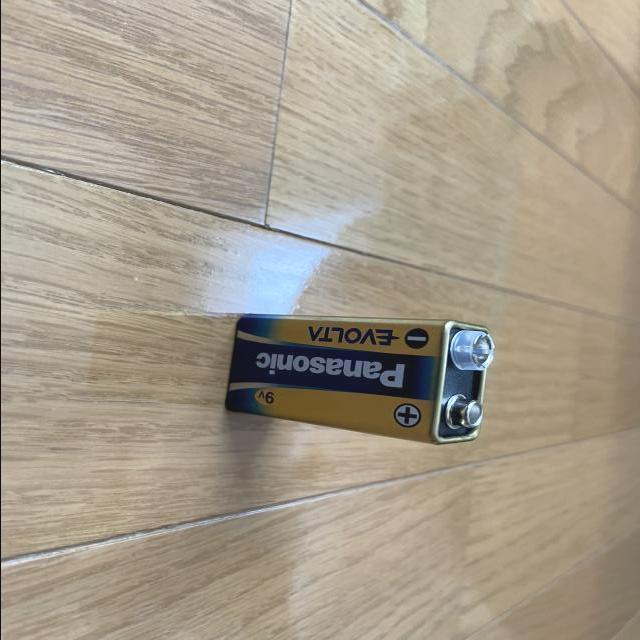9V: (221, 312, 493, 447)
